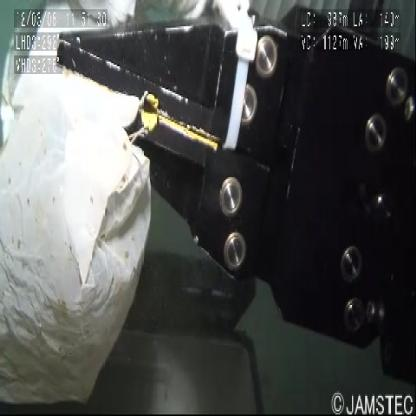Rov: (51, 1, 416, 394), (1, 180, 268, 416)
Rác: (0, 1, 166, 416)
